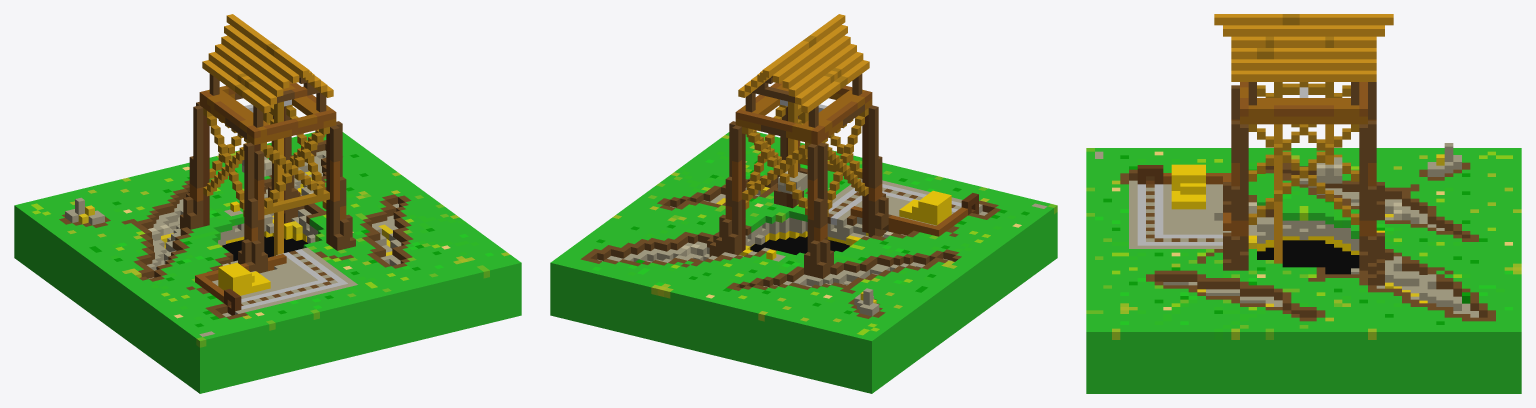
File: mine.obj
3 views of the same model, side by side, from view 1: azimuth 30°, elevation 25°; view 2: azimuth 150°, elevation 25°; view 3: azimuth 270°, elevation 25° (orthographic). The views are drawn at different scales.
Parts seen in each view (by area): view 1: gold; view 2: gold; view 3: gold.
Part boxes in pixels (x1,y1,x2,y2): gold: (14,14,521,393); gold: (550,14,1057,393); gold: (1086,14,1521,393).
Size of the model in its own units: 5.1 by 3.7 by 5.1.
1 material, 1 textured.
